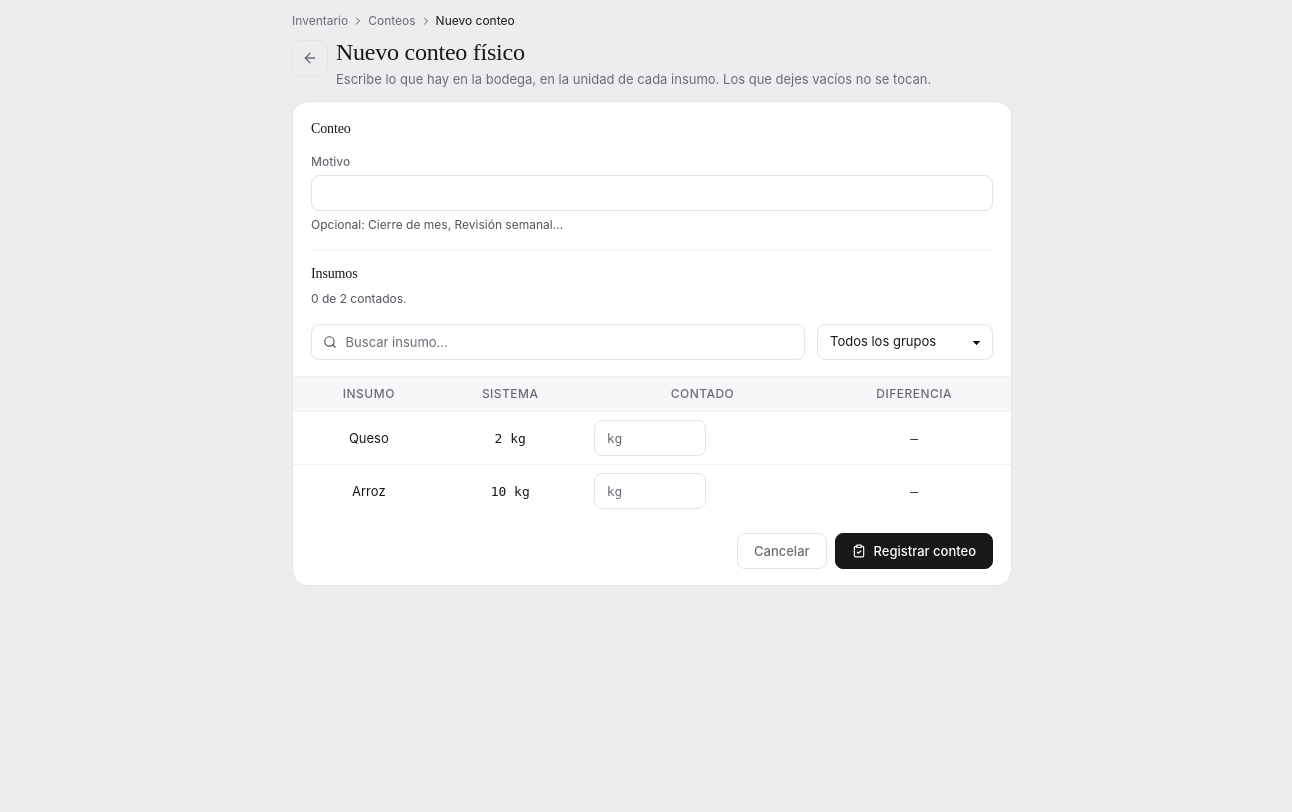
it: Conteo físico › envía solo los insumos contados y muestra la diferencia en vivo
The width and height of the screenshot is (1292, 812).
Step 1. Type "8.5" into the field named "Contado de Arroz en kg" → (650, 491), box [594, 473, 706, 509]
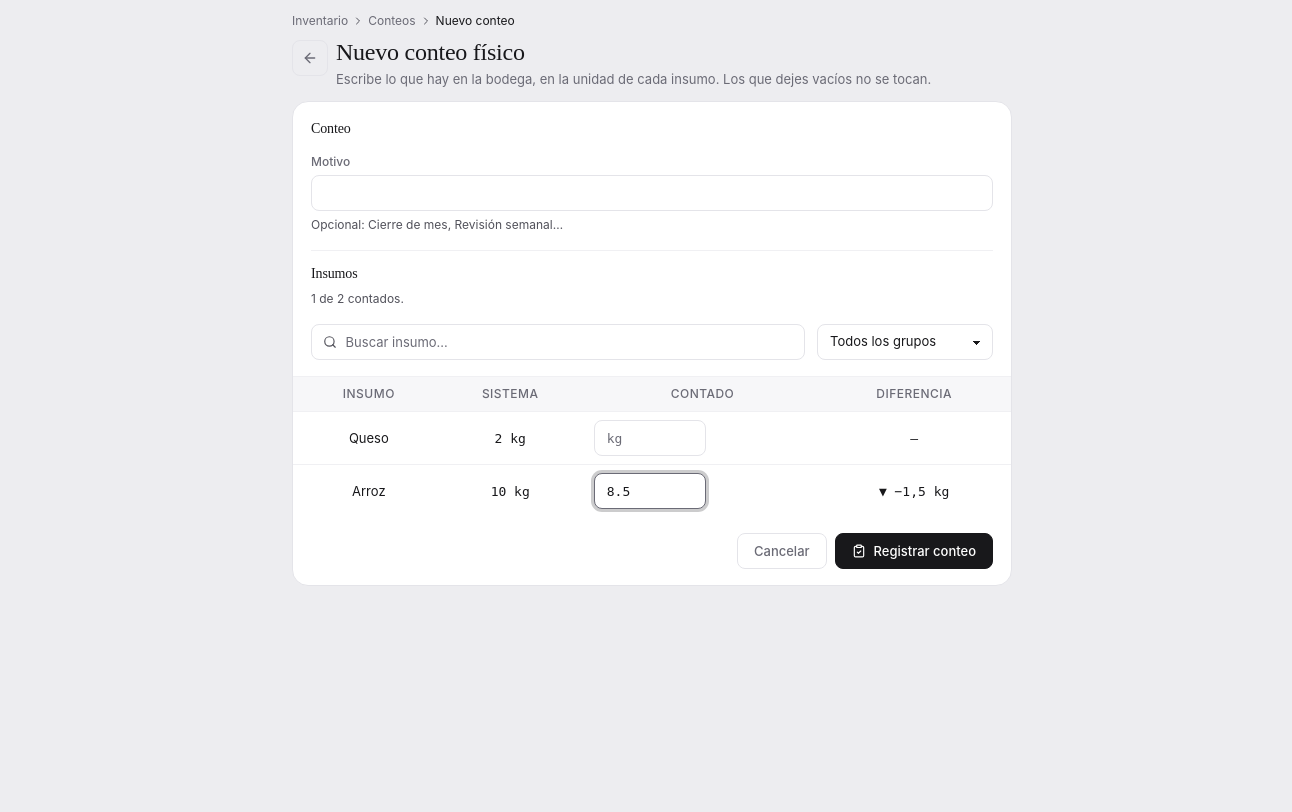
Expected: the text "▼ −1,5 kg" is shown, [823, 465, 1011, 517]
Step 2. Type "Cierre de mes" into the field labelled "Motivo" → (652, 193), box [311, 175, 993, 211]
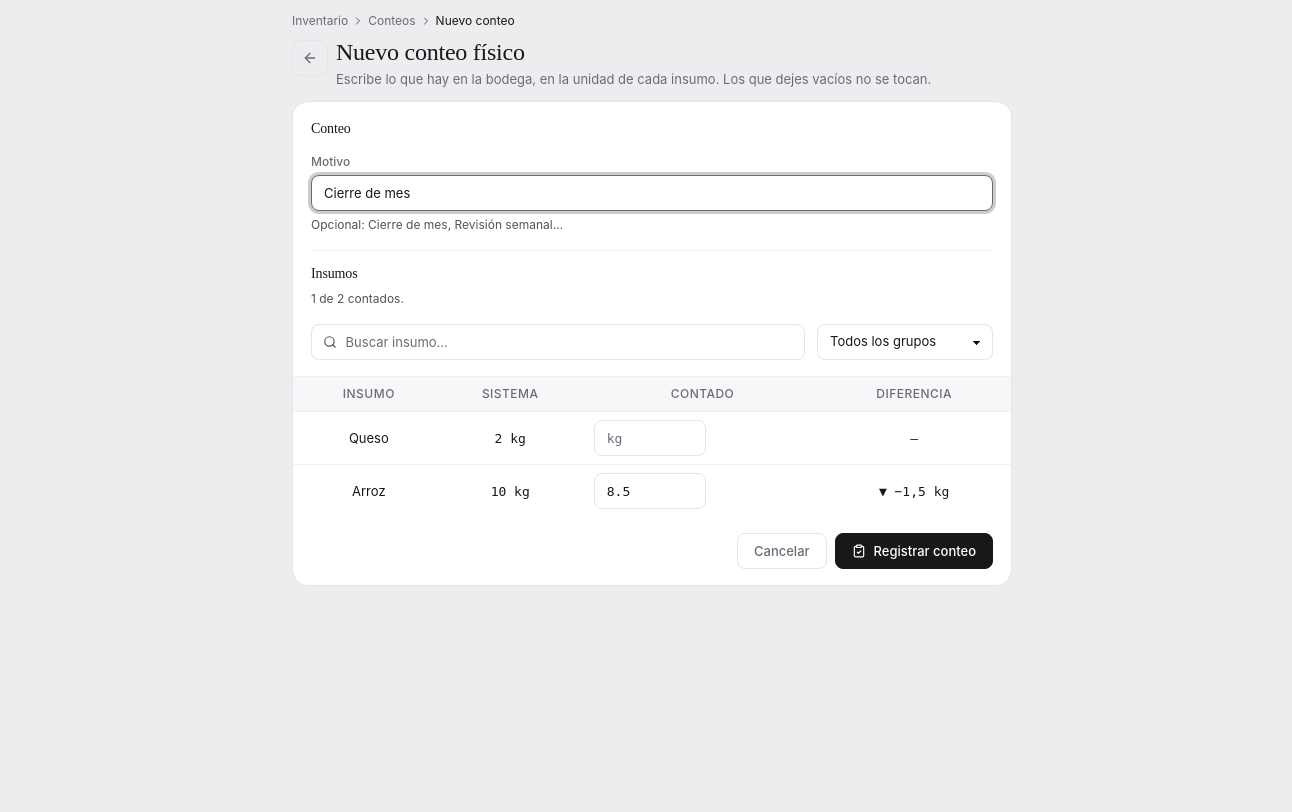
Step 3. Click the button "Registrar conteo" → (914, 551), box [834, 533, 993, 569]
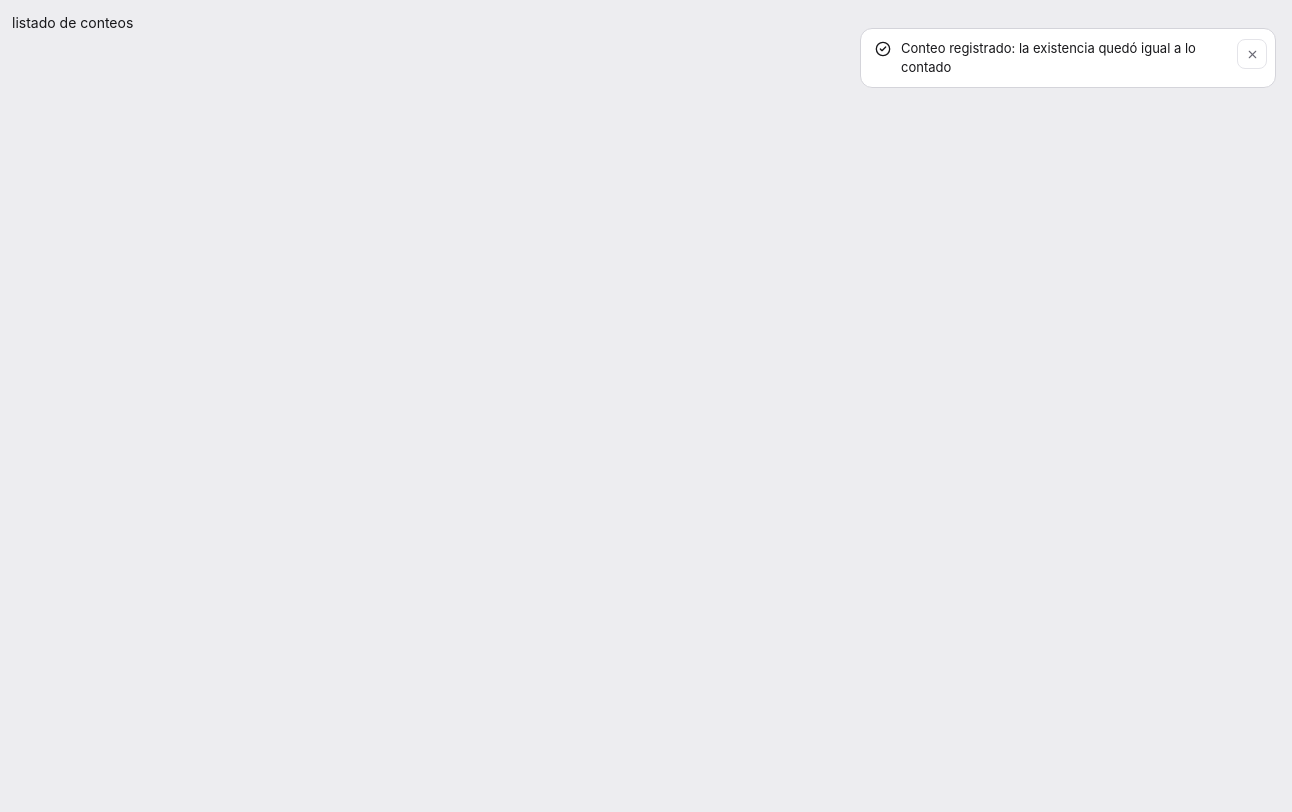
Expected: the text "listado de conteos" is shown, [12, 14, 133, 31]
